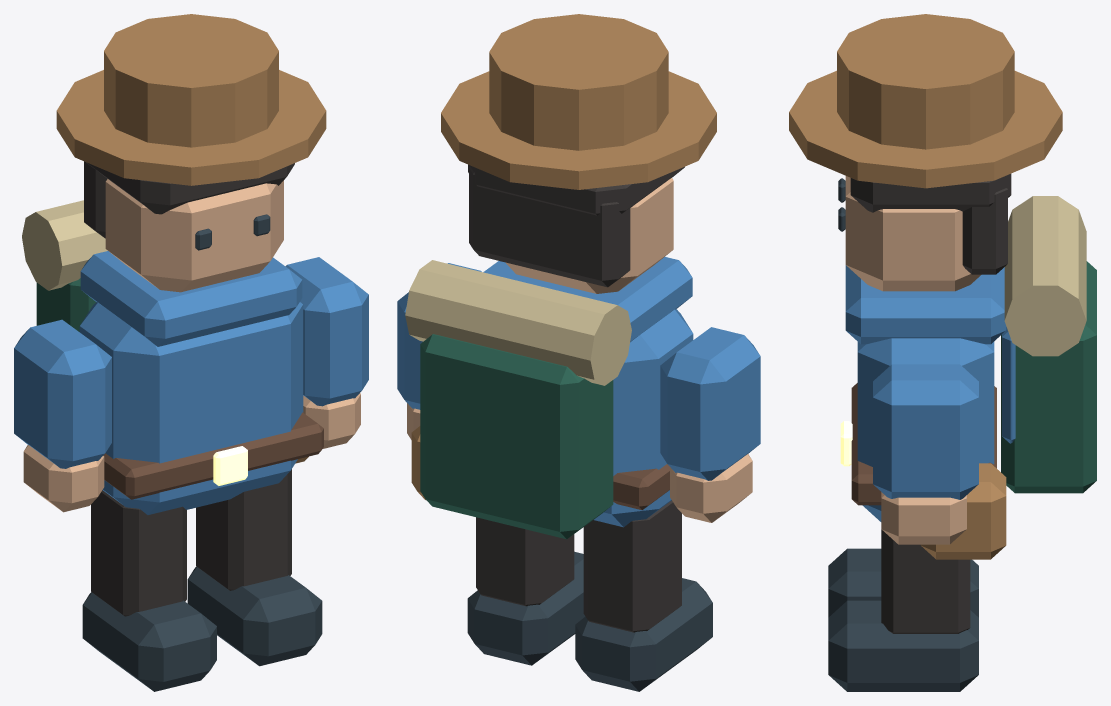
The model's file is person-explorer.glb.
3 views of the same model, side by side, from view 1: azimuth 30°, elevation 25°; view 2: azimuth 150°, elevation 25°; view 3: azimuth 270°, elevation 25° (orthographic). The views are drawn at different scales.
Visible parts, largest first — view 1: tunic.008, hat-crown, hat-brim, head.008, sleeve.016, scarf.008, leg.016, boot.016, sleeve.017, boot.017, leg.017, belt.008 (+7 smaller); view 2: backpack, hat-crown, bedroll, hat-brim, sleeve.016, hair-back.008, leg.016, tunic.008, boot.016, leg.017, boot.017, scarf.008 (+6 smaller); view 3: hat-crown, hat-brim, sleeve.017, backpack, bedroll, boot.017, head.008, scarf.008, leg.017, tunic.008, satchel.008, hand.017 (+6 smaller).
Boxes of the visible parts, x1,y1,x2,y2 form: tunic.008: (79,302,303,514); hat-crown: (104,14,278,147); hat-brim: (56,70,326,185); head.008: (105,179,283,292); sleeve.016: (14,319,111,468); scarf.008: (80,251,302,346); leg.016: (91,490,186,616); boot.016: (82,592,216,691); sleeve.017: (285,257,368,406); boot.017: (187,566,322,666); leg.017: (196,469,291,590); belt.008: (103,412,323,499); backpack: (420,334,613,539); hat-crown: (489,14,668,150); bedroll: (405,260,631,385); hat-brim: (441,71,716,189); sleeve.016: (660,327,760,480); hair-back.008: (469,166,630,287); leg.016: (583,500,681,632); tunic.008: (594,309,693,527); boot.016: (575,578,712,691); leg.017: (476,517,574,606); boot.017: (467,551,585,665); scarf.008: (483,257,692,342); hat-crown: (837,14,1014,149); hat-brim: (789,70,1062,188); sleeve.017: (873,364,978,499); backpack: (1001,261,1096,493); bedroll: (1004,196,1086,356); boot.017: (828,600,978,691); head.008: (845,176,981,291); scarf.008: (845,265,1006,344); leg.017: (881,529,970,633); tunic.008: (857,338,994,521); satchel.008: (920,463,1006,559); hand.017: (881,492,966,544).
Size of the model in its own units: 1.1 by 1.95 by 0.9.
